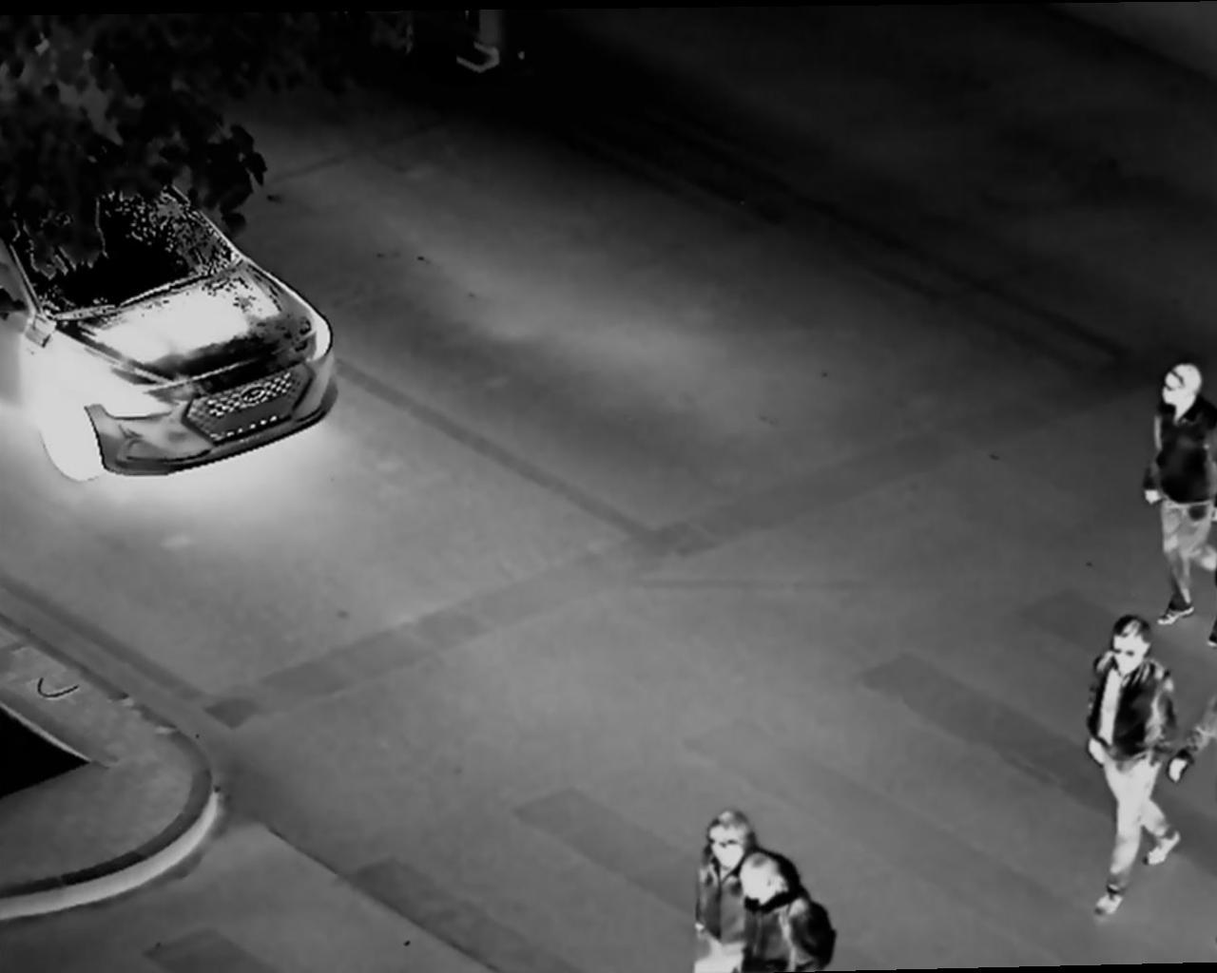person: (1087, 612, 1183, 897), (1145, 357, 1216, 625), (736, 855, 825, 973), (701, 797, 737, 973)
